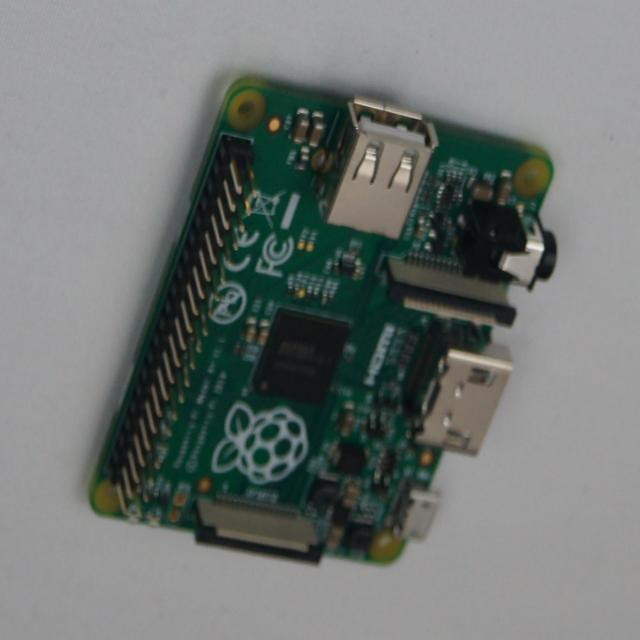Raspberry-Pi-1-A-: (92, 76, 557, 564)
